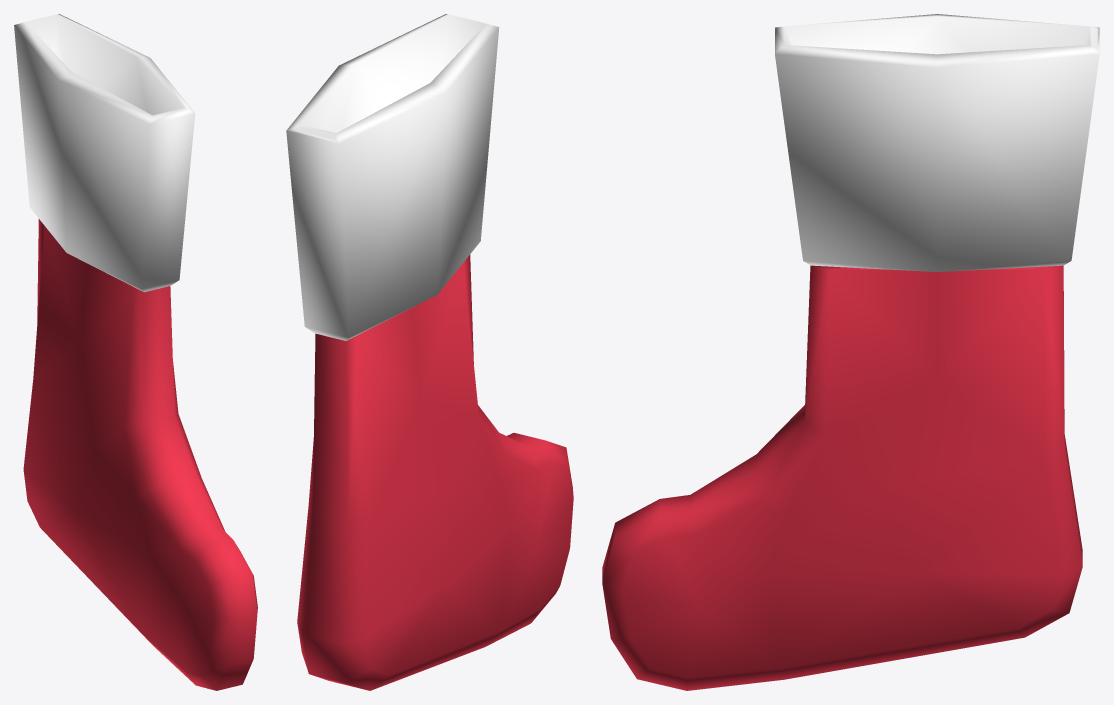
File: SM_Xmas_Stocking_01.obj
3 renders of one model, left to right at view 1: azimuth 30°, elevation 25°; view 2: azimuth 150°, elevation 25°; view 3: azimuth 270°, elevation 25°, orthographic. The views are drawn at different scales.
Visible parts, largest first — view 1: SM_Xmas_Stocking_01_Mat_SwatchOverlay_PolygonTown_01_Inst; view 2: SM_Xmas_Stocking_01_Mat_SwatchOverlay_PolygonTown_01_Inst; view 3: SM_Xmas_Stocking_01_Mat_SwatchOverlay_PolygonTown_01_Inst.
Boxes of the visible parts, bbox=[...] form: SM_Xmas_Stocking_01_Mat_SwatchOverlay_PolygonTown_01_Inst: bbox=[14, 14, 257, 690]; SM_Xmas_Stocking_01_Mat_SwatchOverlay_PolygonTown_01_Inst: bbox=[286, 14, 573, 690]; SM_Xmas_Stocking_01_Mat_SwatchOverlay_PolygonTown_01_Inst: bbox=[602, 14, 1099, 690].
Size of the model in its own units: 0.1514 by 0.8509 by 0.5923.
1 material, 1 textured.
